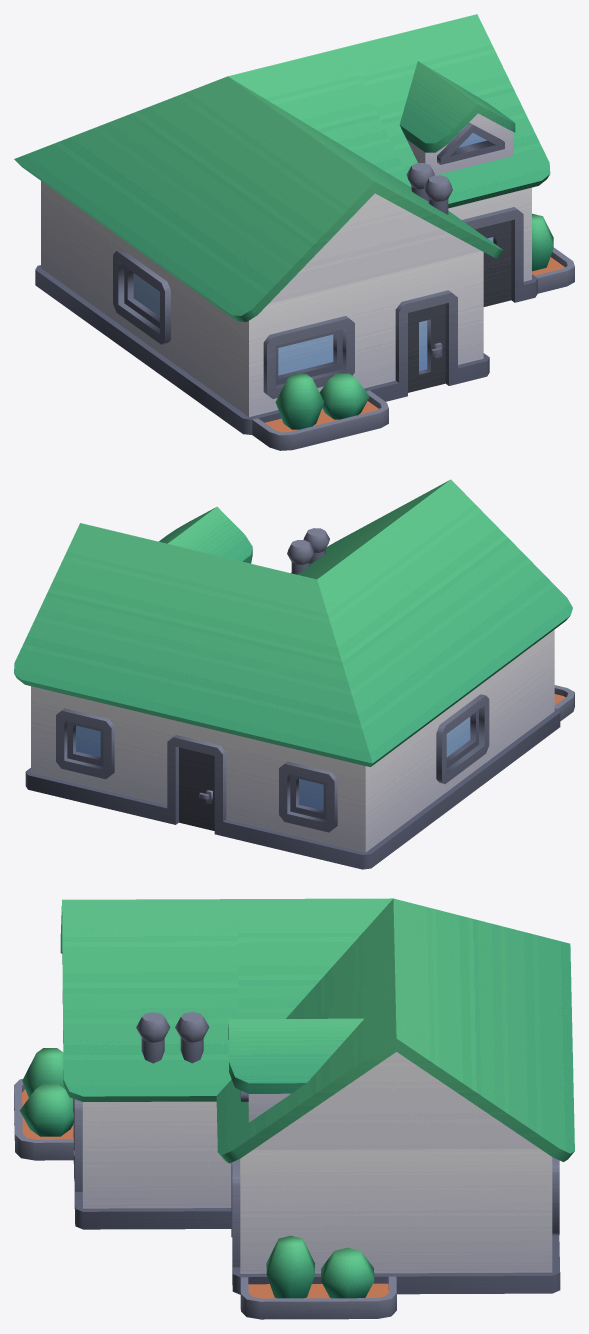
File: building-type-m.012_lev3.glb
3 renders of one model, top to bottom at view 1: azimuth 30°, elevation 25°; view 2: azimuth 150°, elevation 25°; view 3: azimuth 270°, elevation 25°, orthographic. The views are drawn at different scales.
Parts seen in each view (by area): view 1: building-type-m.012_lev3; view 2: building-type-m.012_lev3; view 3: building-type-m.012_lev3.
Boxes of the visible parts, bbox=[...] form: building-type-m.012_lev3: bbox=[14, 14, 574, 450]; building-type-m.012_lev3: bbox=[14, 479, 574, 869]; building-type-m.012_lev3: bbox=[14, 898, 574, 1319].
Bounding box in the file's own units: 5.74 × 2.95 × 5.75.
Materials: 1 (1 with a texture image).
